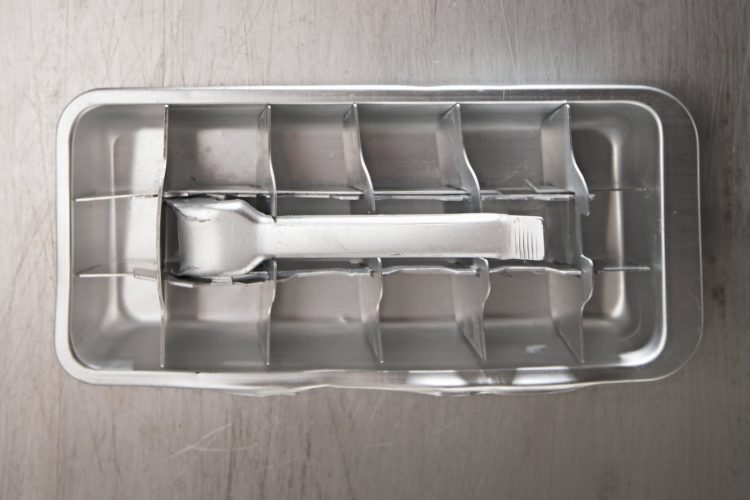metal: (53, 80, 704, 399)
